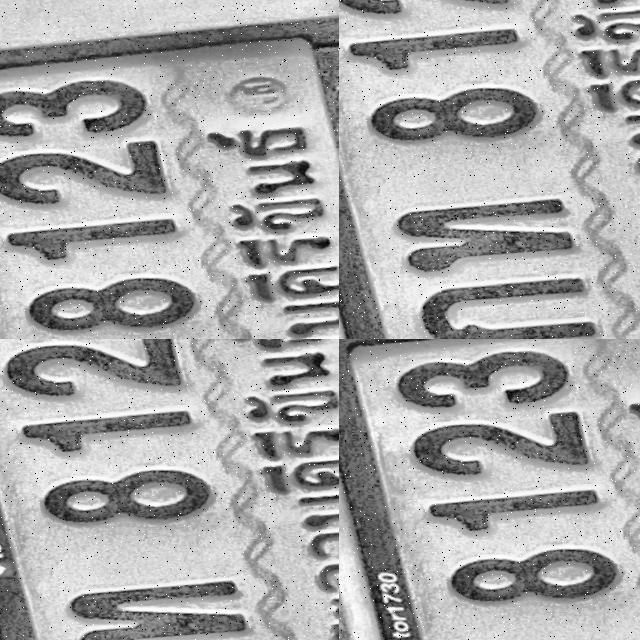license-plate: (339, 339, 640, 640), (339, 279, 424, 339)
